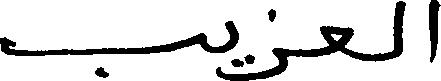X: (0, 28, 200, 80), (253, 4, 287, 80), (319, 21, 353, 62), (225, 16, 237, 80), (393, 0, 405, 62), (429, 0, 440, 67)
